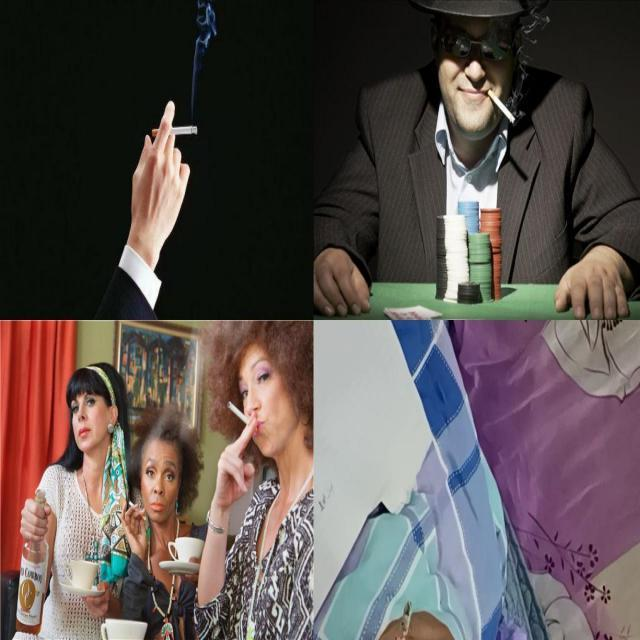smoke: (376, 600, 414, 639), (487, 89, 517, 126), (227, 401, 260, 432), (152, 126, 198, 137), (128, 499, 148, 521)
